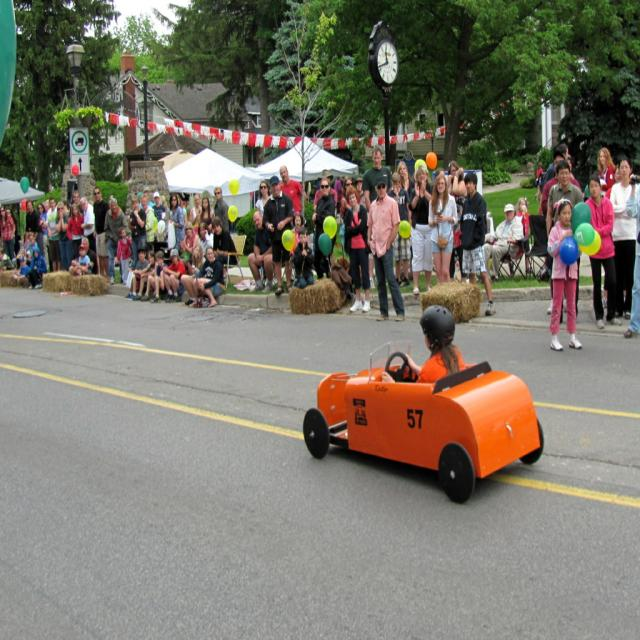car: (301, 339, 546, 506)
